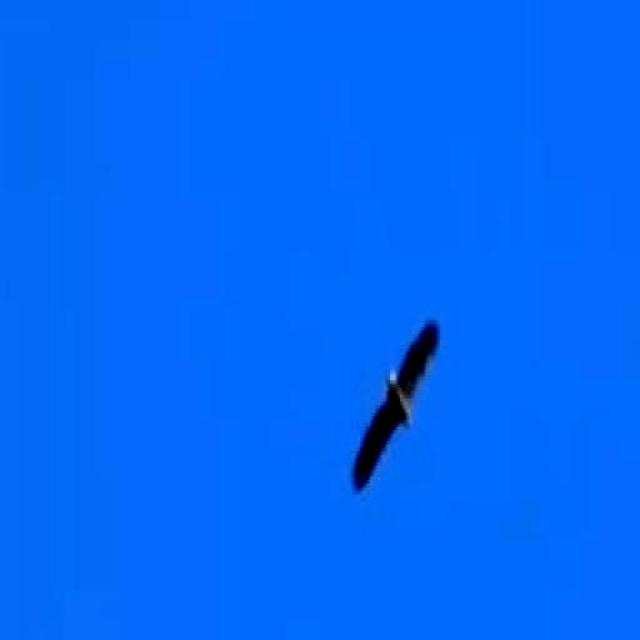airplane: (332, 300, 465, 525)
